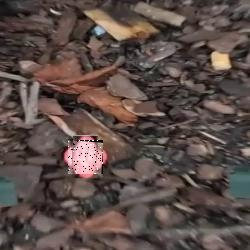metal: (68, 140, 103, 174)
